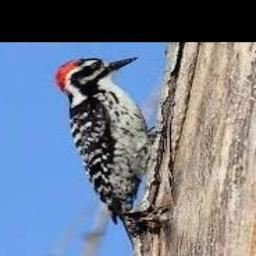Woodpecker: (54, 57, 156, 234)
